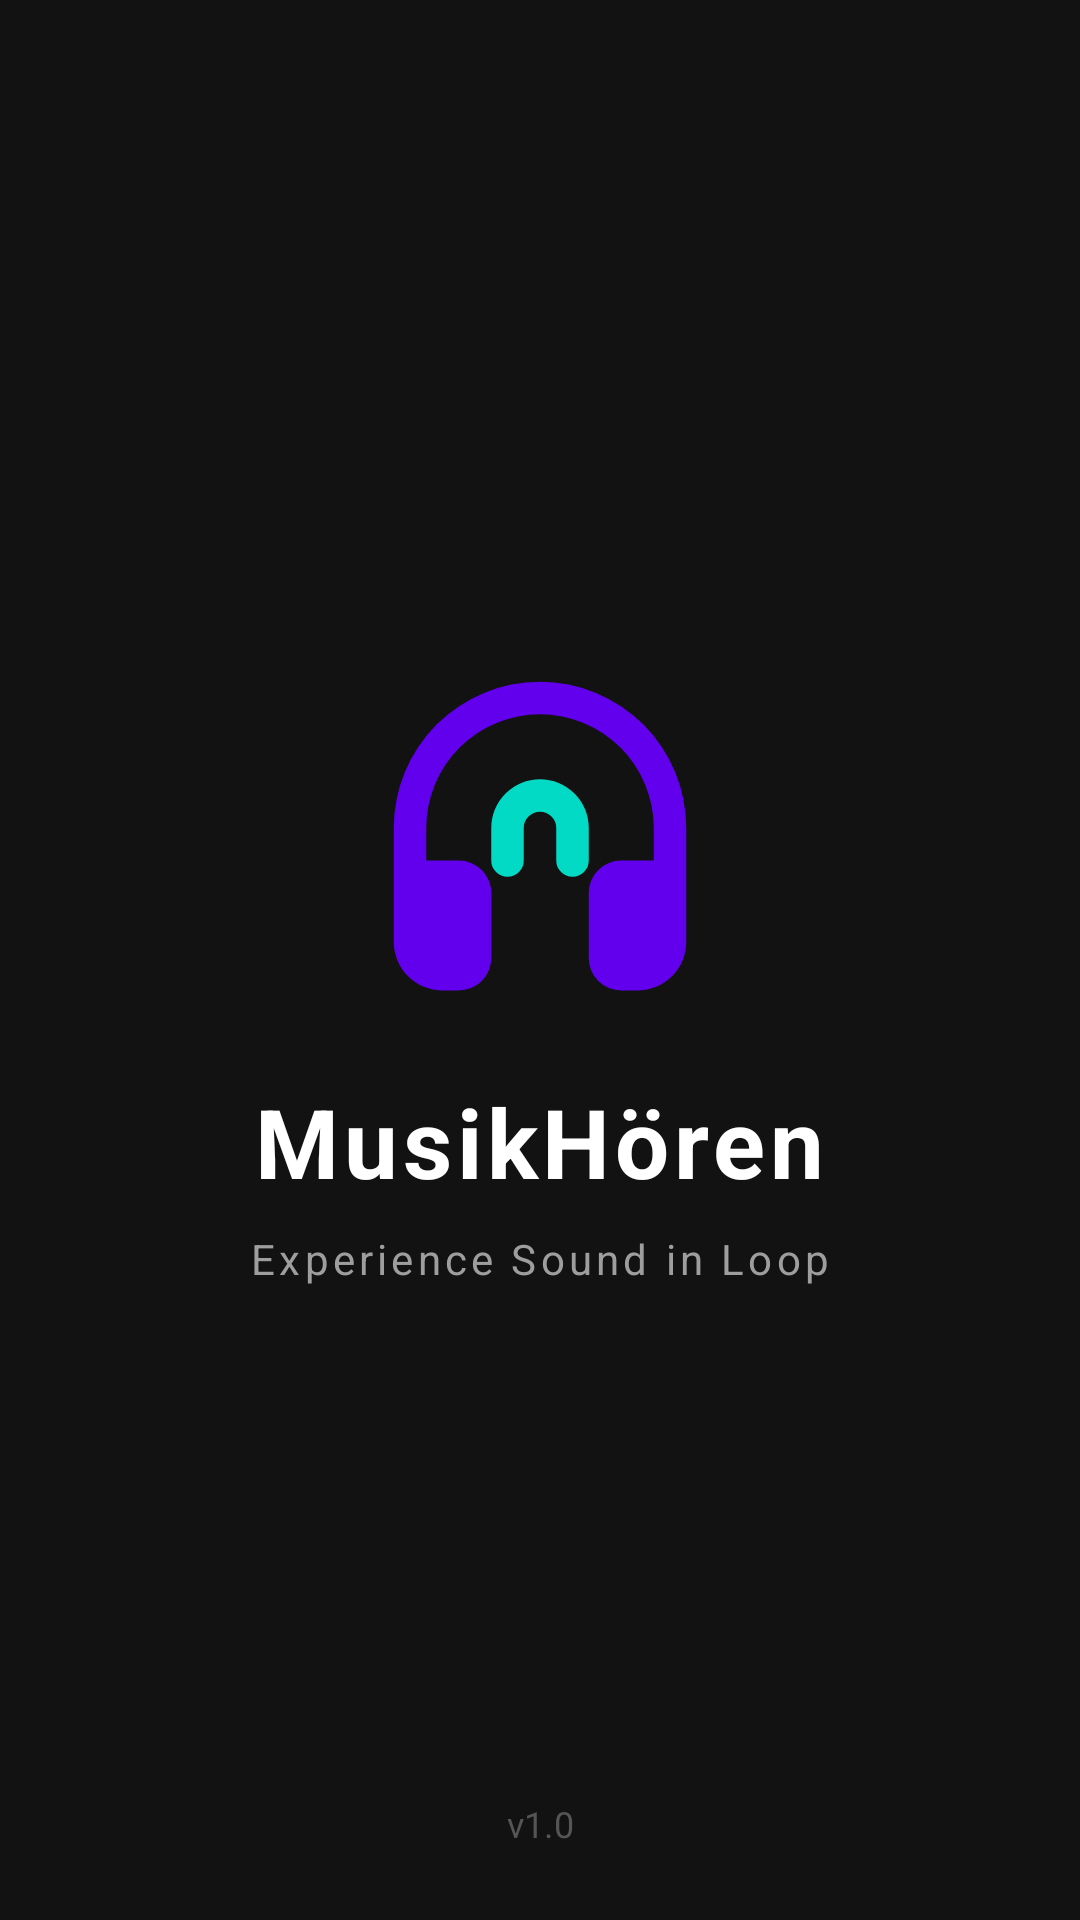

Named icons in this screenshot (1080x1920) and their bounding boxes, (x1, y1, x2, y2):
musikhoren: (393, 681, 687, 991)
